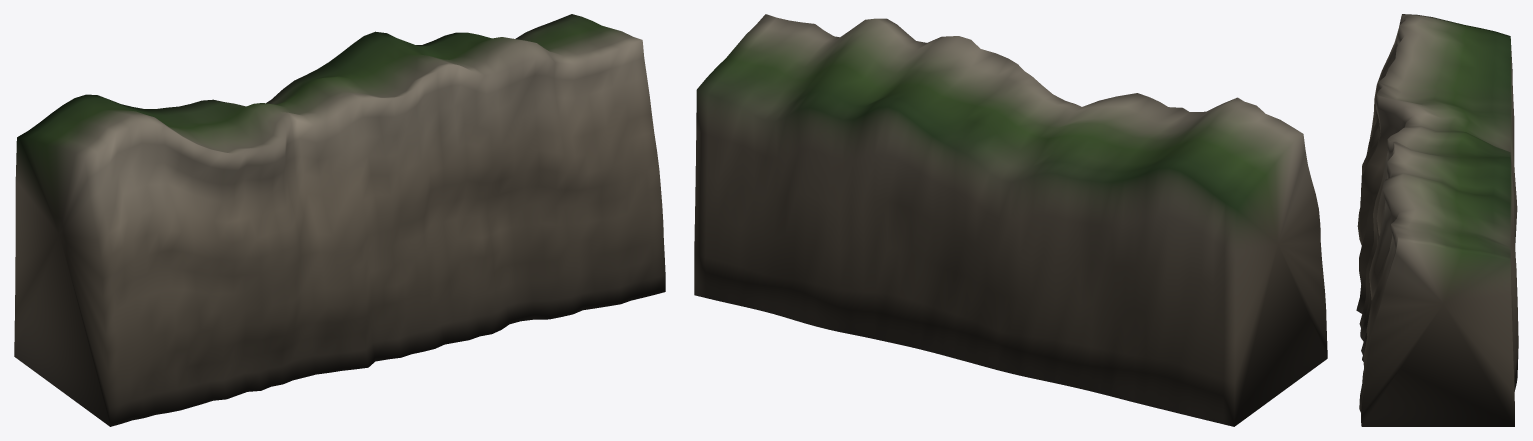
Rendered from cliff_segment.glb.
3 views of the same model, side by side, from view 1: azimuth 30°, elevation 25°; view 2: azimuth 150°, elevation 25°; view 3: azimuth 270°, elevation 25° (orthographic). The views are drawn at different scales.
Parts seen in each view (by area): view 1: cliff_segment; view 2: cliff_segment; view 3: cliff_segment.
Part boxes in pixels (x1,y1,x2,y2): cliff_segment: [14, 14, 665, 426]; cliff_segment: [694, 14, 1327, 426]; cliff_segment: [1356, 14, 1518, 426].
Size of the model in its own units: 60 by 27.94 by 19.14.
